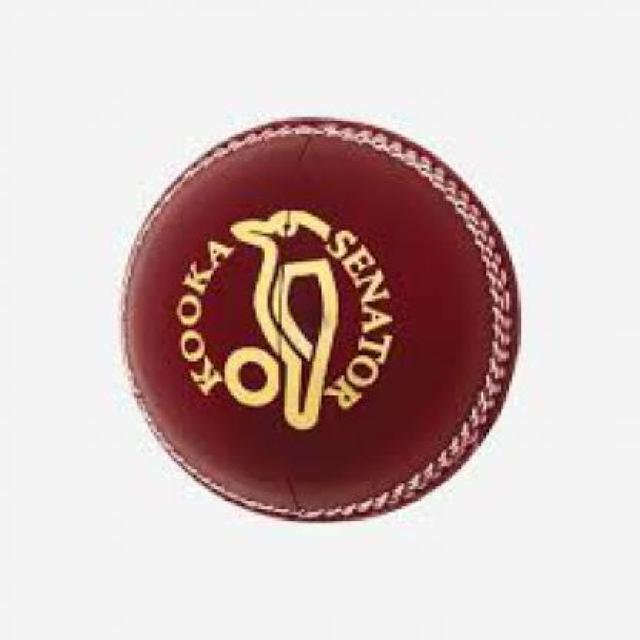ball: (93, 101, 547, 554)
